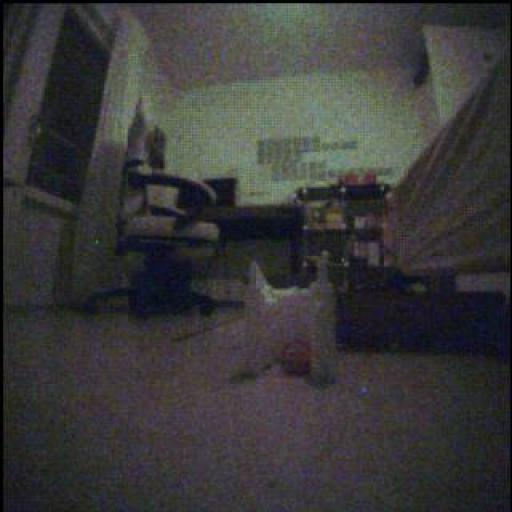basket: (295, 1, 512, 72), (283, 342, 313, 375), (343, 174, 361, 187), (364, 172, 379, 187)
